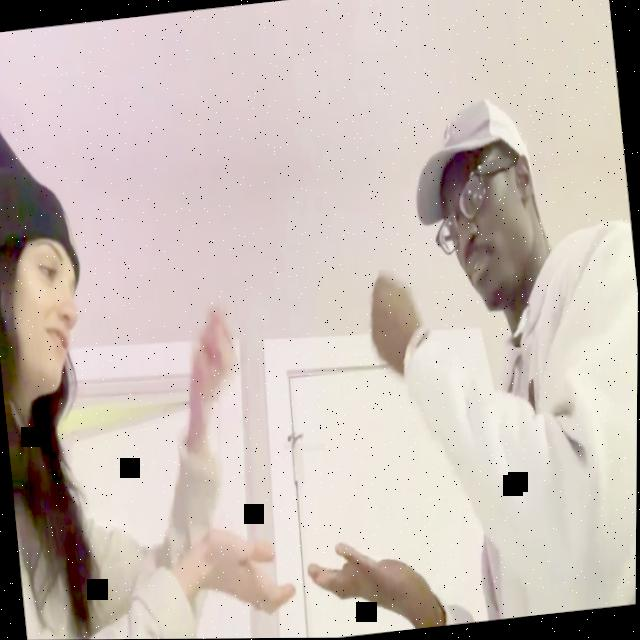Rock: (363, 270, 418, 374), (185, 307, 239, 400)
